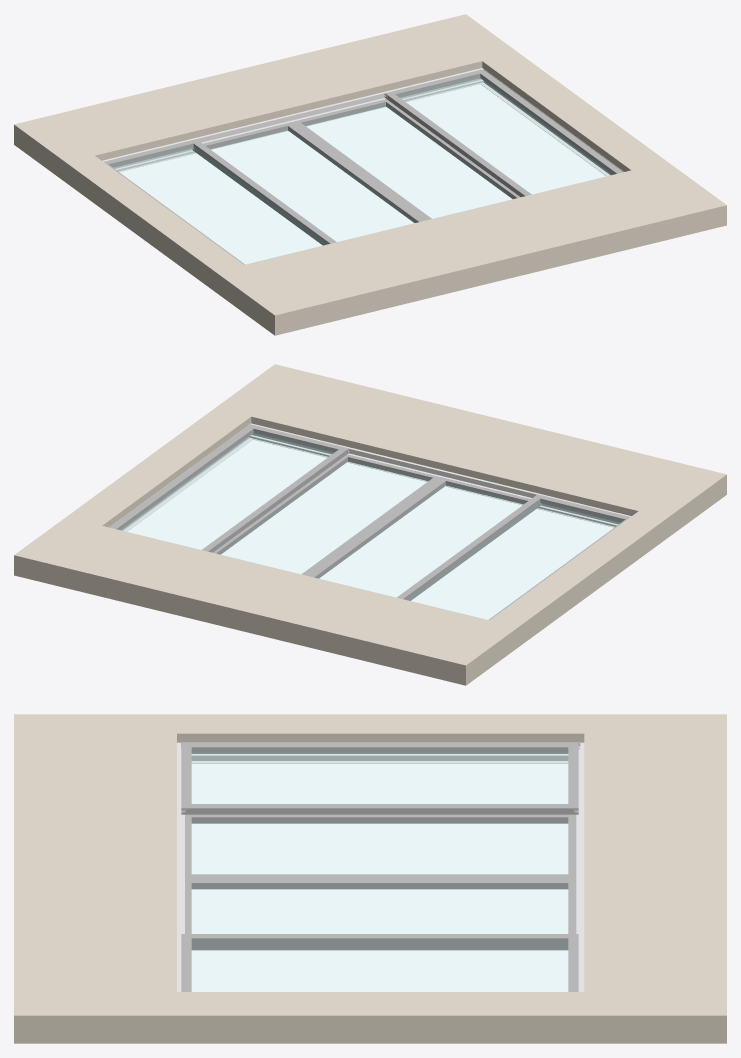
The model's file is Door03.gltf.
3 views of the same model, one above another, from view 1: azimuth 30°, elevation 25°; view 2: azimuth 150°, elevation 25°; view 3: azimuth 270°, elevation 25° (orthographic). The views are drawn at different scales.
Parts seen in each view (by area): view 1: SIP, WindowCasement (×4), WindowFrame; view 2: SIP, WindowCasement (×4), WindowFrame; view 3: SIP, WindowCasement (×4), WindowFrame.
Boxes of the visible parts, bbox=[...] form: SIP: bbox=[14, 14, 726, 335]; WindowCasement (×4): bbox=[104, 69, 623, 264]; WindowFrame: bbox=[102, 68, 623, 176]; SIP: bbox=[14, 364, 726, 685]; WindowCasement (×4): bbox=[110, 424, 630, 620]; WindowFrame: bbox=[109, 423, 631, 531]; SIP: bbox=[14, 714, 726, 1043]; WindowCasement (×4): bbox=[181, 743, 578, 991]; WindowFrame: bbox=[177, 742, 584, 991].
Size of the model in its own units: 3.5 by 0.152 by 3.5.
